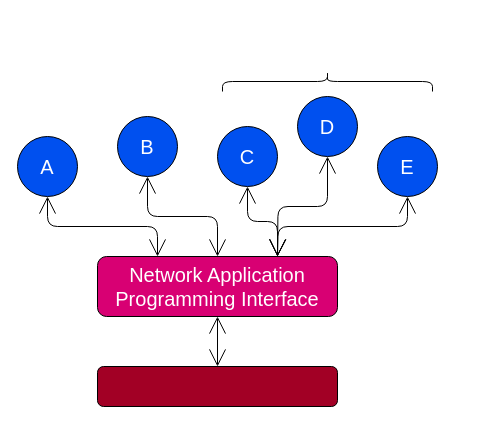
Some shapes in this 495 by 424 pixel diagram are drawn without their labels. The centre of each missing label's shape, as x and y in pixels:
"Application spawns several processes using network" belongs at pixel 327 81.
"Operating System" belongs at pixel 217 386.
